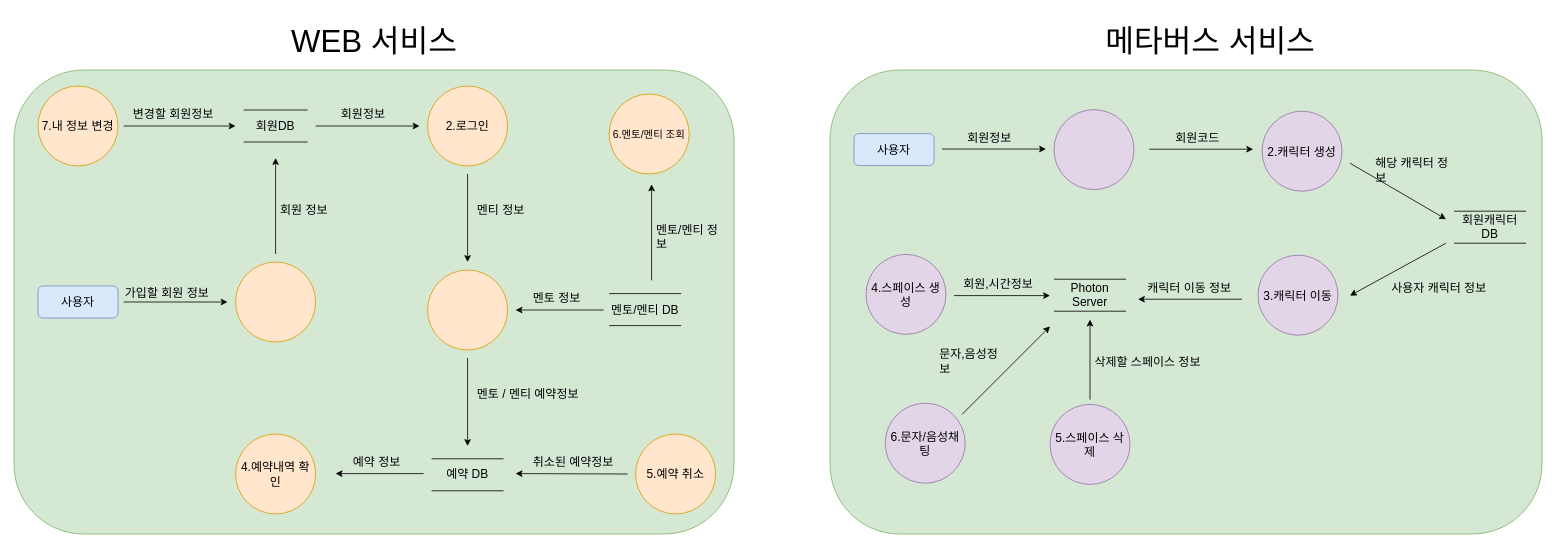
Image size: 1556x548. Some labels were removed from this diagram. The shapes that lost their labels are listed below. From the top down, each one's centre as x and y in pixels, then its label:
At (x=1093, y=149): "1.로그인".
At (x=275, y=301): "1.회원가입".
At (x=467, y=309): "3.멘토링 신청".
